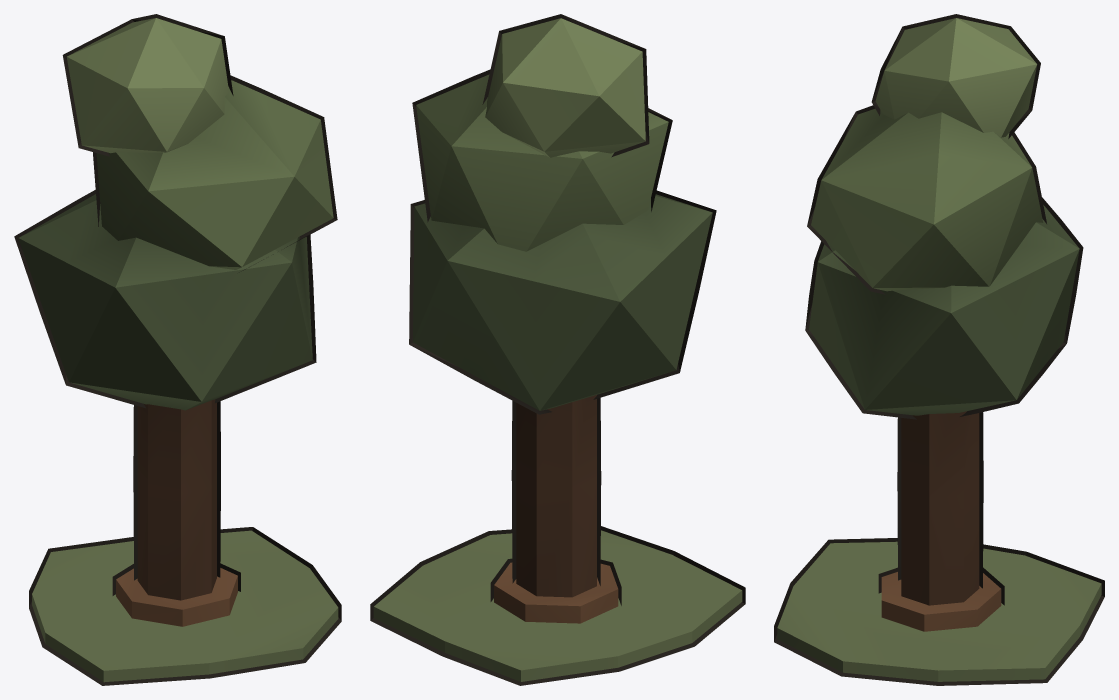
Rendered from arbre.glb.
3 views of the same model, side by side, from view 1: azimuth 30°, elevation 25°; view 2: azimuth 150°, elevation 25°; view 3: azimuth 270°, elevation 25° (orthographic).
Visible parts, largest first — view 1: arbre, arbre_outline; view 2: arbre, arbre_outline; view 3: arbre, arbre_outline.
Part boxes in pixels (x1,y1,x2,y2): arbre: (18, 18, 338, 682); arbre_outline: (14, 14, 341, 685); arbre: (373, 18, 742, 681); arbre_outline: (370, 14, 745, 685); arbre: (777, 18, 1101, 681); arbre_outline: (774, 14, 1104, 685).
Bounding box in the file's own units: 1.03 × 2.1 × 1.05.
